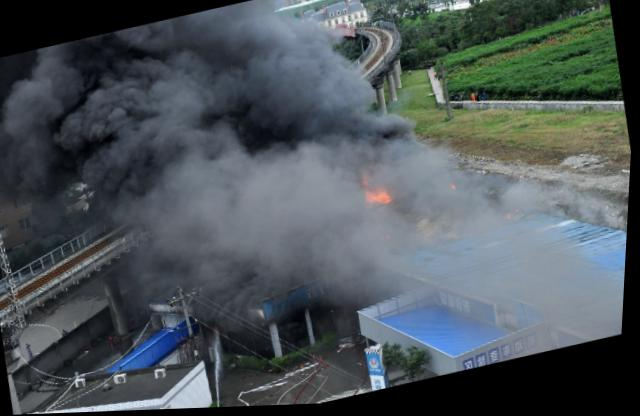fire: (366, 190, 396, 211)
